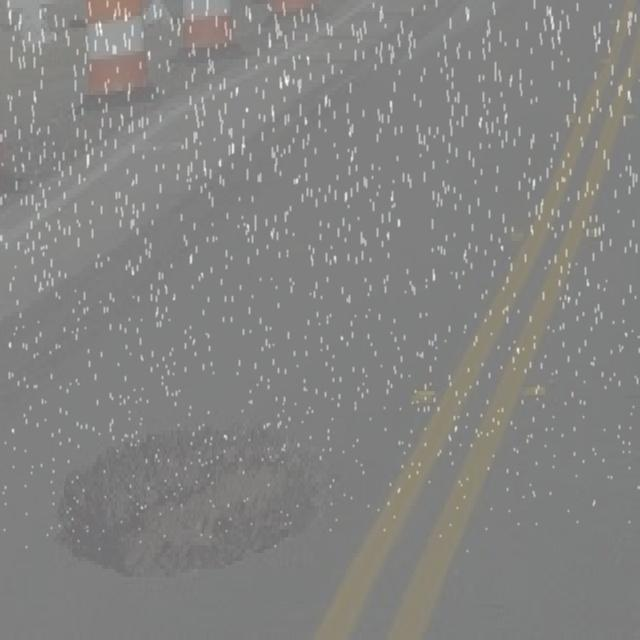Pothole: (49, 422, 335, 590)
